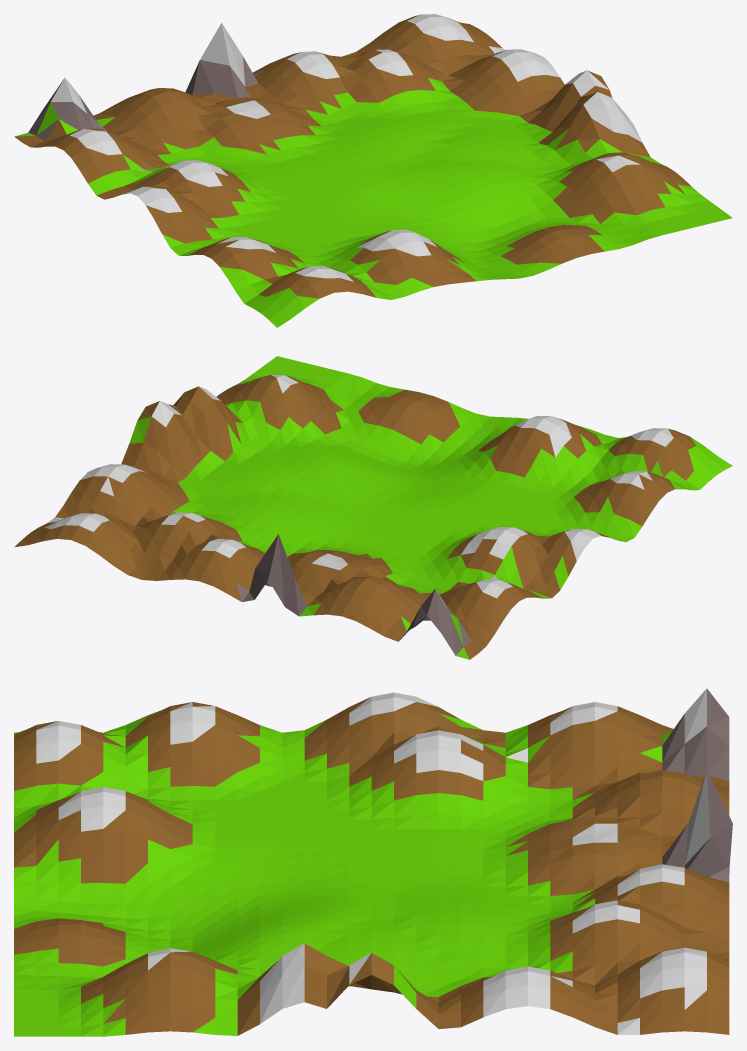
The model's file is terain_low_poly.fbx.
3 views of the same model, one above another, from view 1: azimuth 30°, elevation 25°; view 2: azimuth 150°, elevation 25°; view 3: azimuth 270°, elevation 25° (orthographic). The views are drawn at different scales.
Parts seen in each view (by area): view 1: Terrain; view 2: Terrain; view 3: Terrain.
Part boxes in pixels (x1,y1,x2,y2): Terrain: (14, 14, 732, 327); Terrain: (14, 356, 732, 659); Terrain: (14, 688, 732, 1036).
Bounding box in the file's own units: 18000 × 3425 × 18094.
